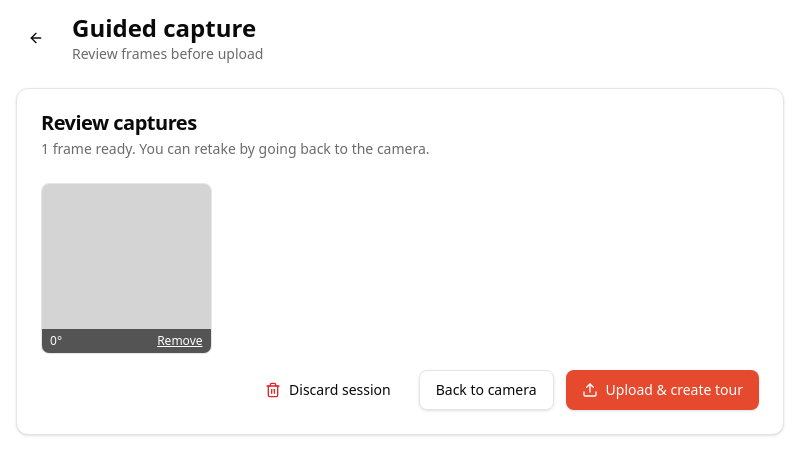
Scenario: GuidedCapturePage capture state machine › uploads review > uploading > frames > complete, then creates a draft tour with no status
Step 1. Click the button "Upload & create tour" → point(662, 390), box left=566, top=370, right=759, bottom=410
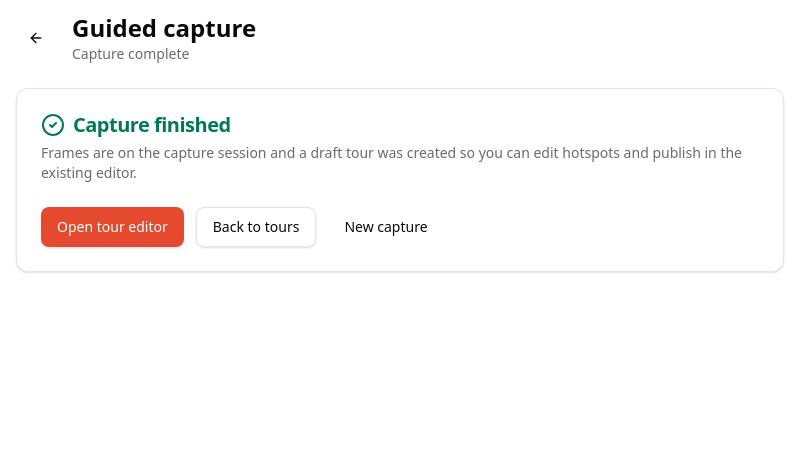
Expected: the heading "Capture finished" is shown, left=41, top=111, right=231, bottom=138
